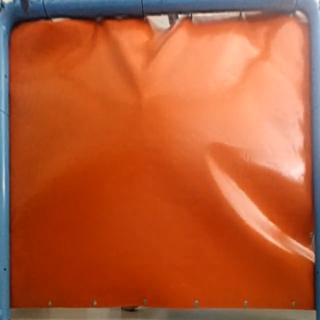Hit-hRxx: (135, 93, 150, 107)
